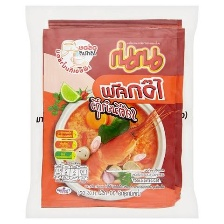snack: (19, 0, 204, 224)
